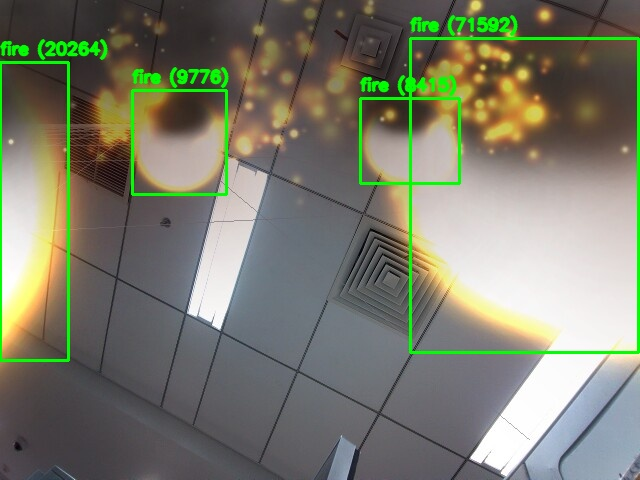fire: (410, 38, 638, 352), (0, 62, 68, 360), (132, 90, 226, 194), (360, 98, 459, 183)
